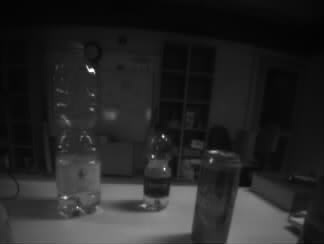Bottle: (56, 49, 98, 211), (144, 126, 169, 207)
Tin can: (196, 152, 231, 244)
